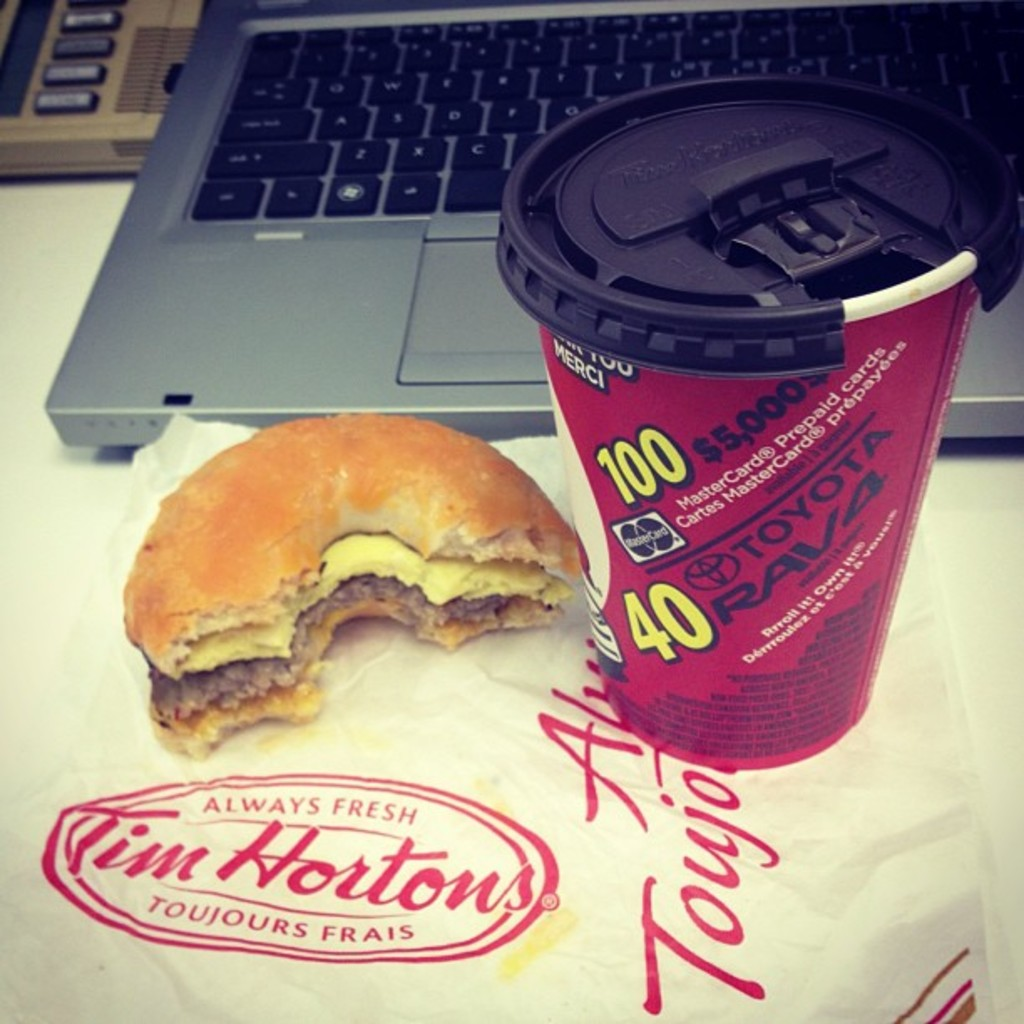Hamburger: (123, 409, 582, 754)
